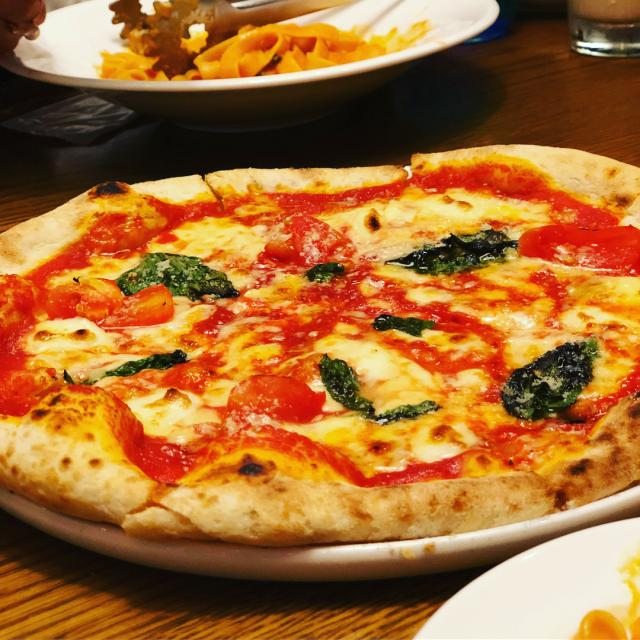basil: (494, 328, 600, 424), (321, 347, 443, 428), (114, 244, 241, 301), (381, 228, 521, 276), (62, 347, 189, 389), (370, 306, 436, 338), (301, 258, 346, 289)
pepperoni: (218, 362, 326, 428), (255, 212, 355, 260)
pizza: (0, 140, 640, 552)
tomatoes: (514, 216, 640, 272), (34, 275, 122, 322), (99, 280, 179, 326)
